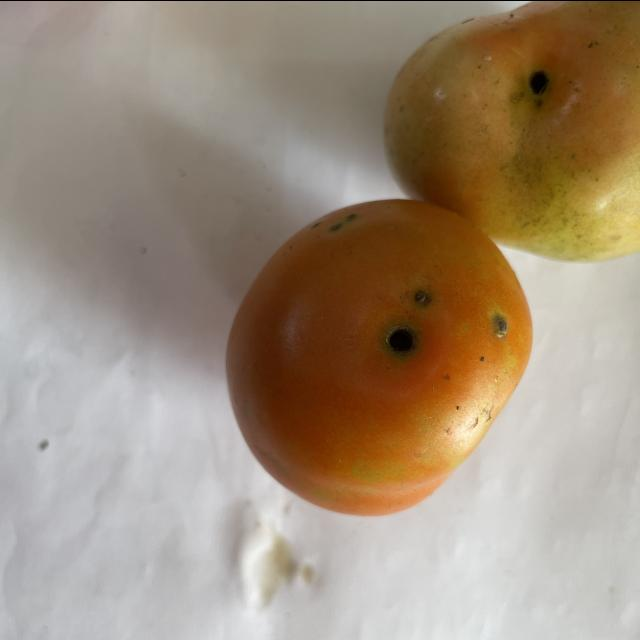fruitworm_bore: (378, 284, 436, 360), (484, 304, 515, 342)
